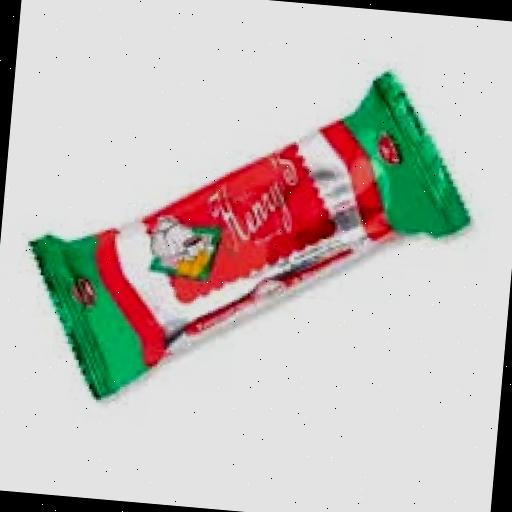golden: (29, 18, 506, 394)
